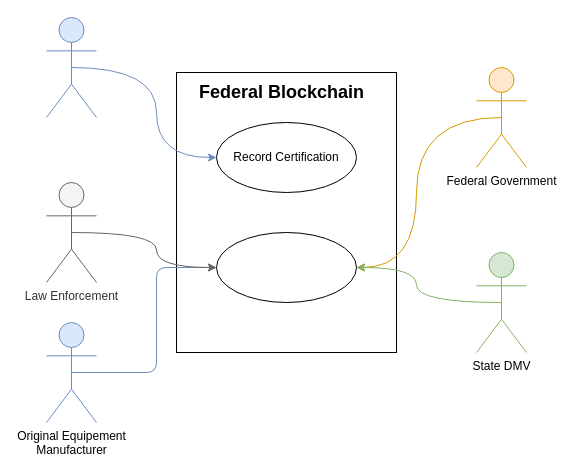
Image size: 574x476. Some labels were removed from this diagram. Each missing label, with the centre of its shape:
Final Assembly Technician: (x=71, y=67)
View Certification: (x=286, y=267)
